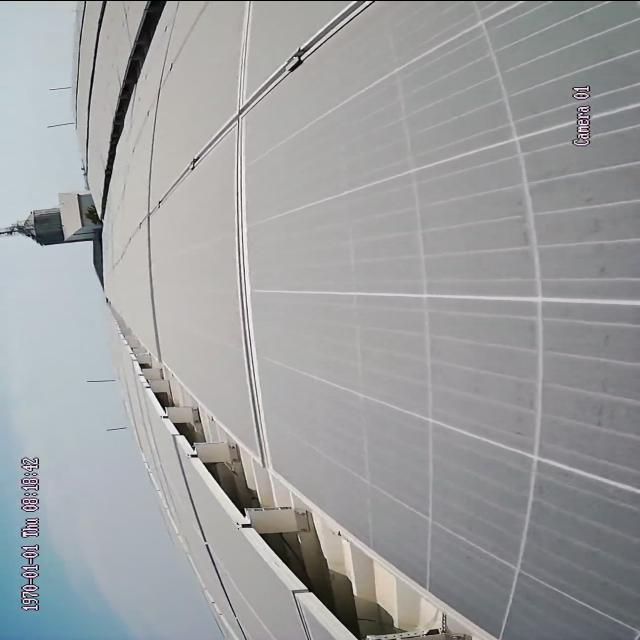interior panel: (153, 1, 382, 457)
outher panel: (107, 306, 487, 640), (107, 0, 175, 174)
